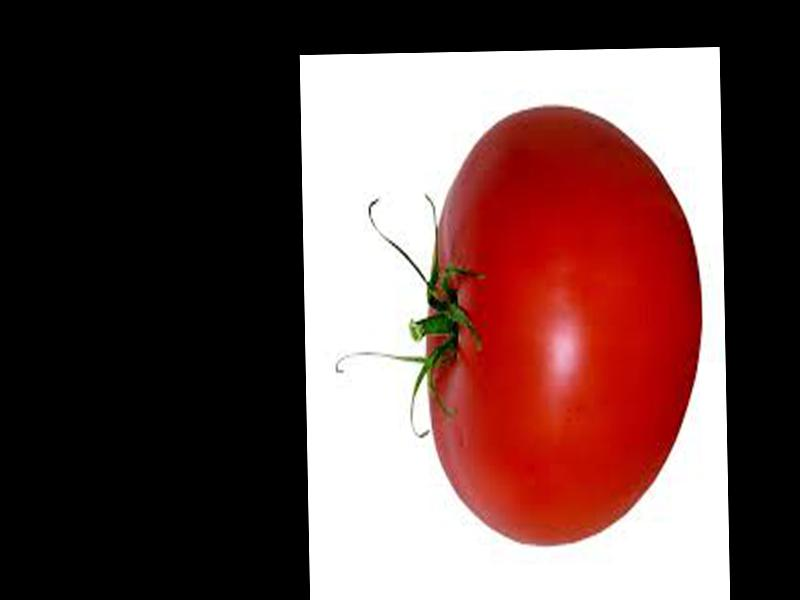Tomato: (420, 104, 704, 551)
